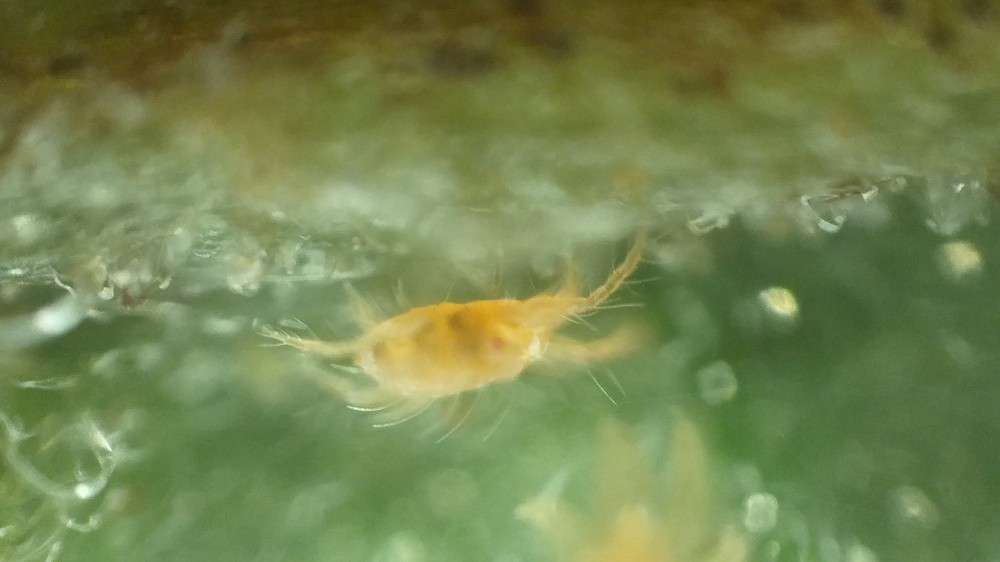Aracnido Rojo: (238, 205, 693, 433)
